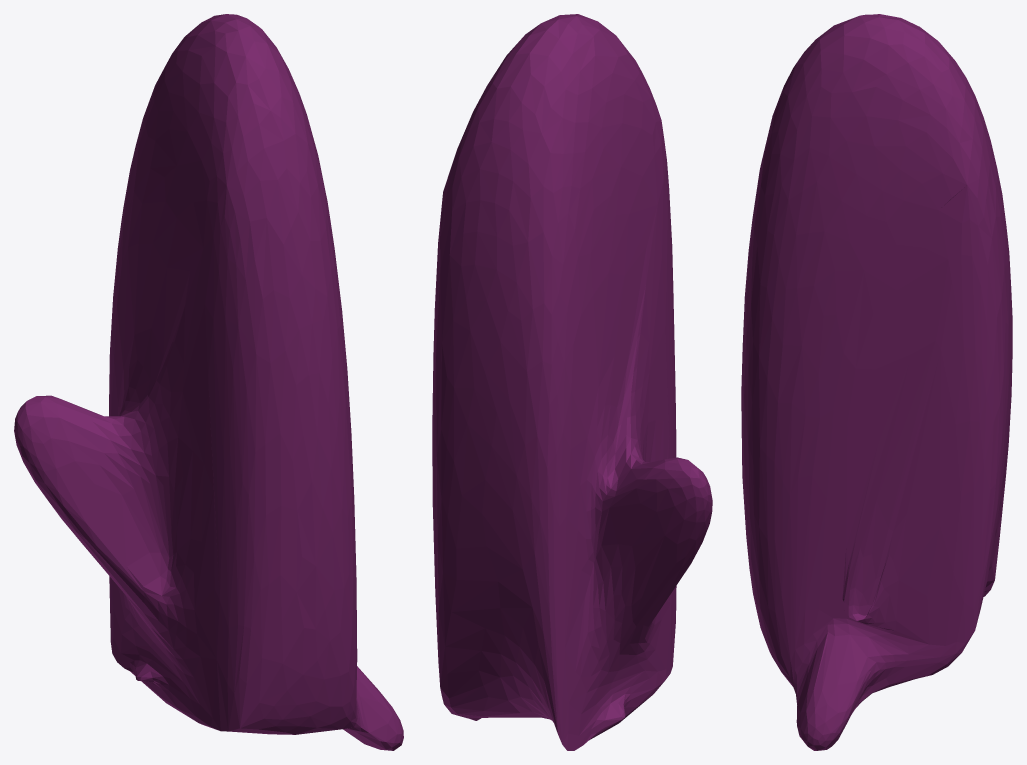
3 renders of one model, left to right at view 1: azimuth 30°, elevation 25°; view 2: azimuth 150°, elevation 25°; view 3: azimuth 270°, elevation 25°, orthographic. The views are drawn at different scales.
Visible parts, largest first — view 1: 641_Cube.2579; view 2: 641_Cube.2579; view 3: 641_Cube.2579.
Part boxes in pixels (x1=…): 641_Cube.2579: x1=14, y1=14, x2=403, y2=750; 641_Cube.2579: x1=432, y1=14, x2=712, y2=750; 641_Cube.2579: x1=741, y1=14, x2=1012, y2=750.
Bounding box in the file's own units: 5.39 × 11.97 × 4.34.
